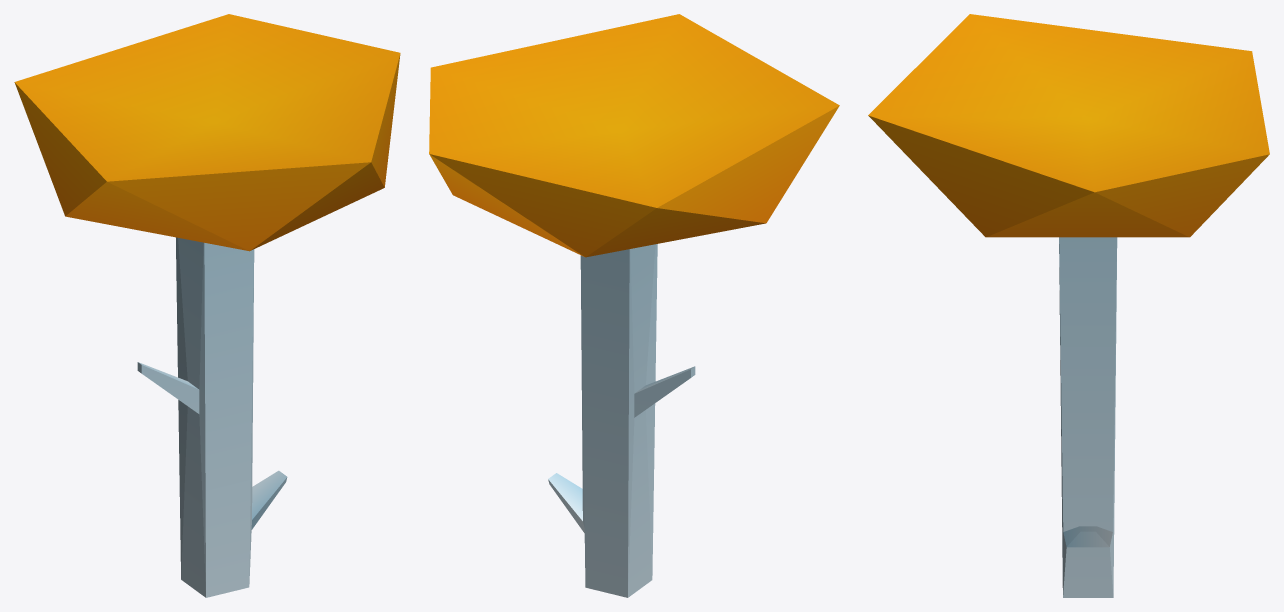
The model's file is fleure3.fbx.
The picture shows the model from 3 angles, left to right: view 1: azimuth 30°, elevation 25°; view 2: azimuth 150°, elevation 25°; view 3: azimuth 270°, elevation 25°; orthographic projection. The views are drawn at different scales.
Parts seen in each view (by area): view 1: Cube.010, Cube.013; view 2: Cube.010, Cube.013; view 3: Cube.010, Cube.013.
Boxes of the visible parts, x1,y1,x2,y2 form: Cube.010: [14, 14, 400, 251]; Cube.013: [137, 237, 287, 597]; Cube.010: [429, 14, 839, 257]; Cube.013: [548, 244, 695, 597]; Cube.010: [868, 14, 1269, 237]; Cube.013: [1059, 237, 1117, 597].
Size of the model in its own units: 0.2319 by 0.3053 by 0.2246.
Materials: 2 (2 with a texture image).
